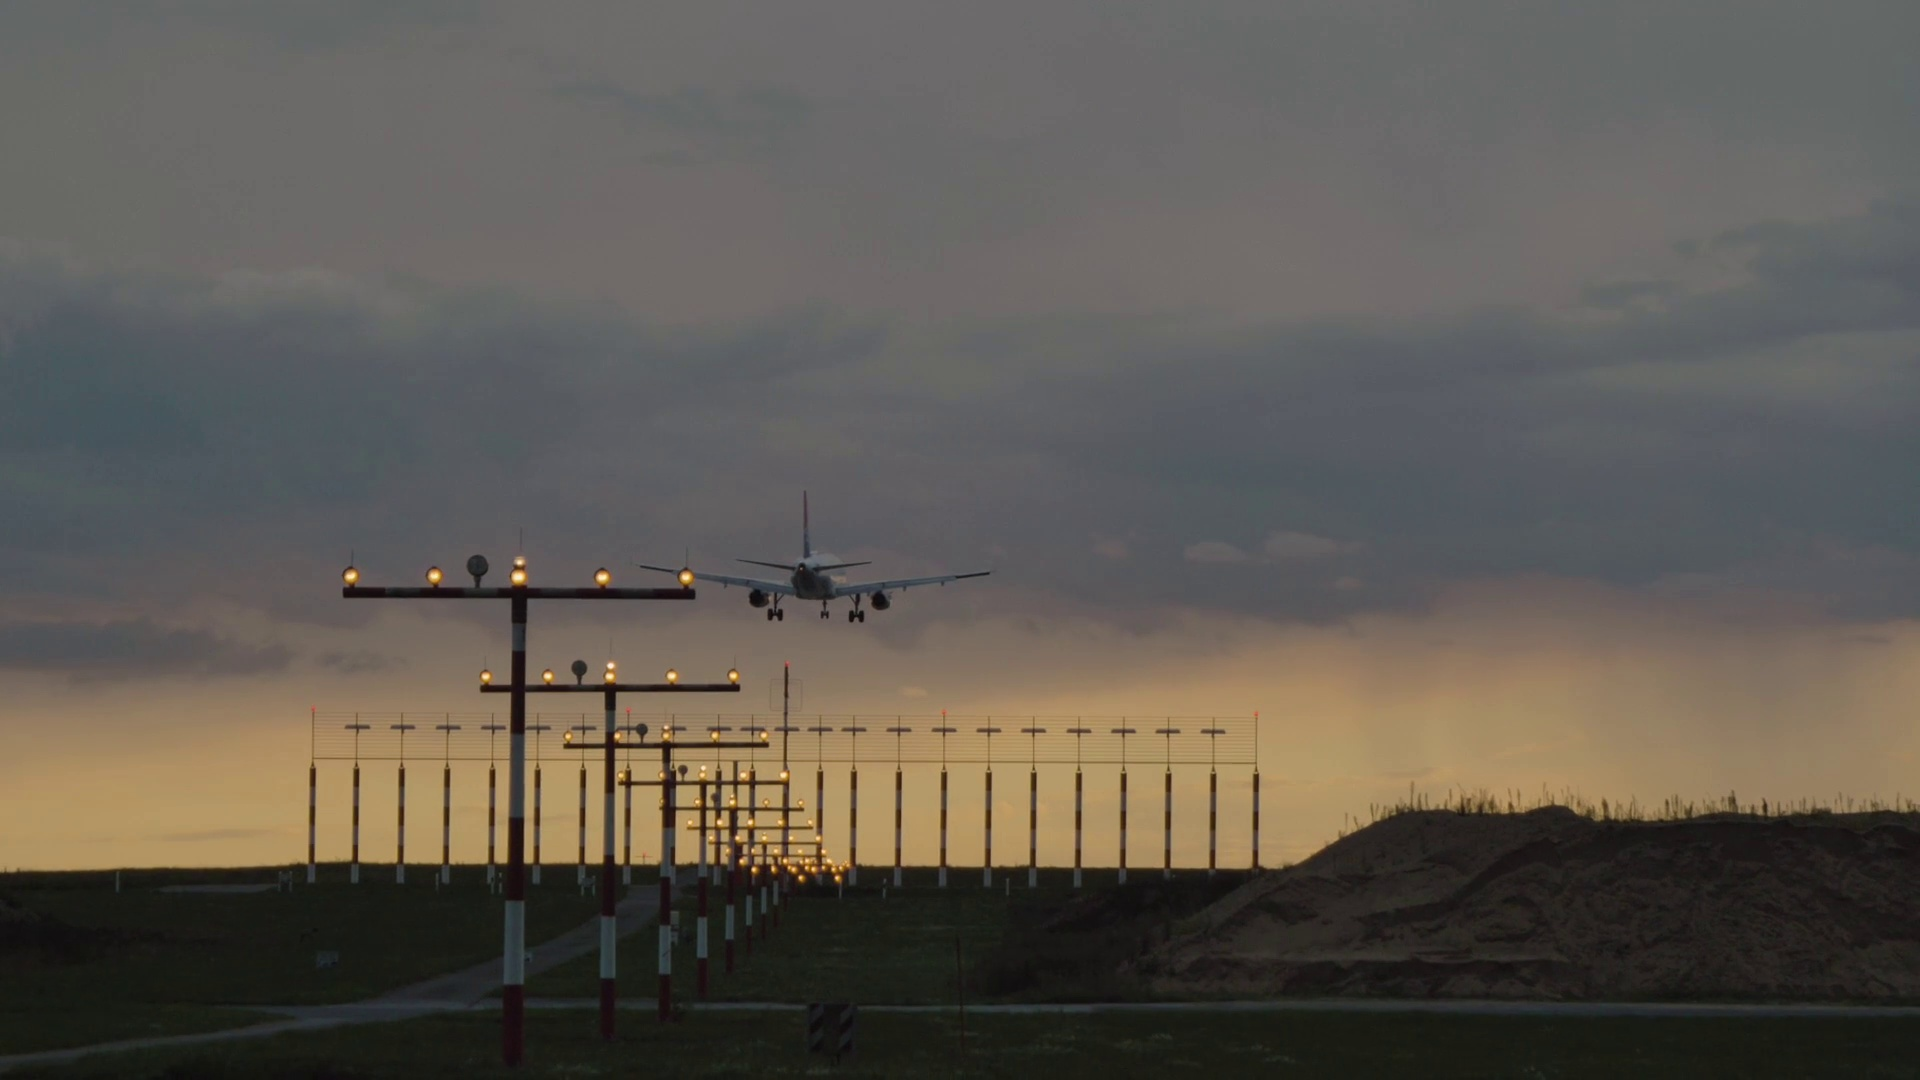plane: (637, 491, 994, 622)
